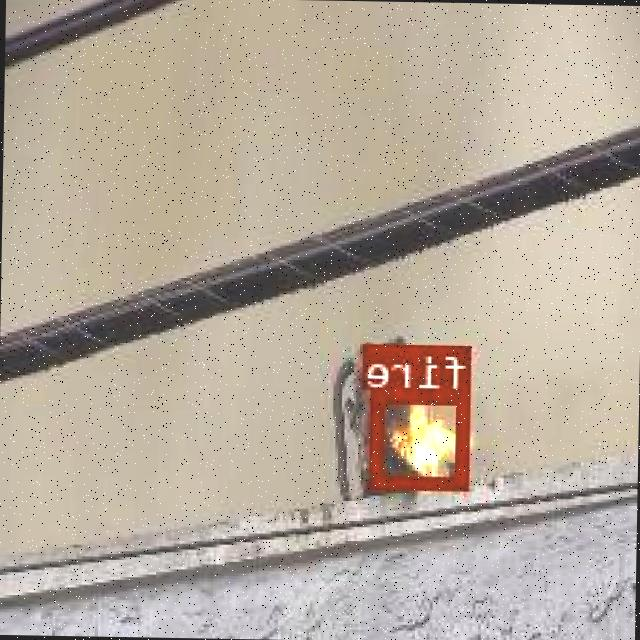fire: (372, 388, 473, 488)
